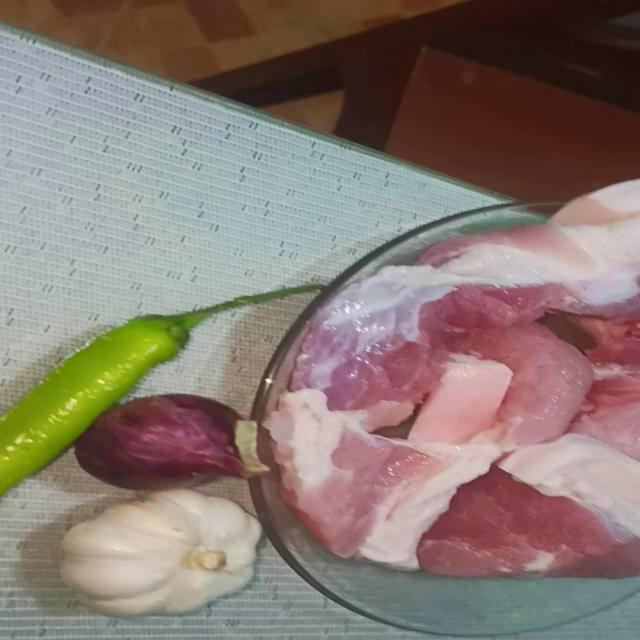chili_pepper: (0, 275, 255, 503)
garlic: (64, 493, 266, 617)
onion: (83, 380, 264, 503)
pork: (273, 257, 465, 430), (423, 198, 640, 328), (426, 450, 640, 580), (391, 343, 596, 455), (276, 442, 442, 557)
